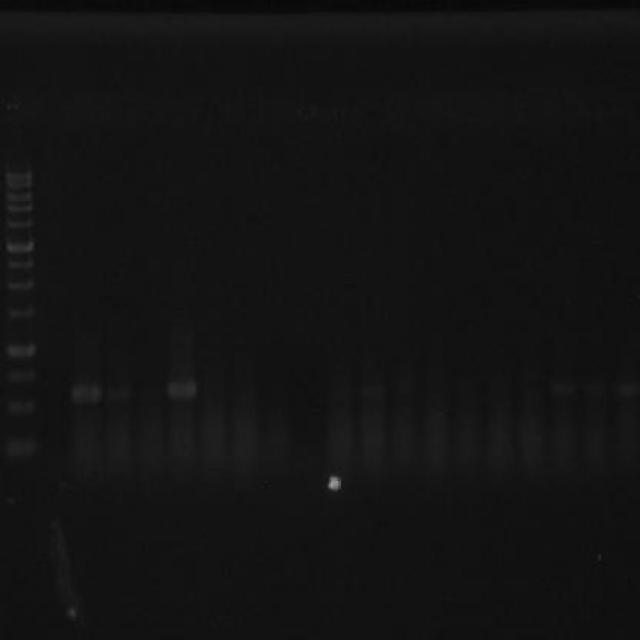B: (162, 376, 200, 402), (70, 384, 104, 407), (548, 378, 580, 400), (104, 383, 133, 405), (612, 382, 640, 400)
M: (2, 151, 41, 467)
P: (2, 434, 36, 460), (2, 396, 36, 418), (4, 236, 34, 255), (4, 303, 34, 320), (6, 368, 34, 386), (6, 344, 36, 359), (6, 279, 34, 295), (4, 166, 34, 180), (4, 216, 34, 229), (6, 258, 34, 270), (5, 190, 32, 202), (4, 204, 34, 213), (5, 181, 33, 190)
